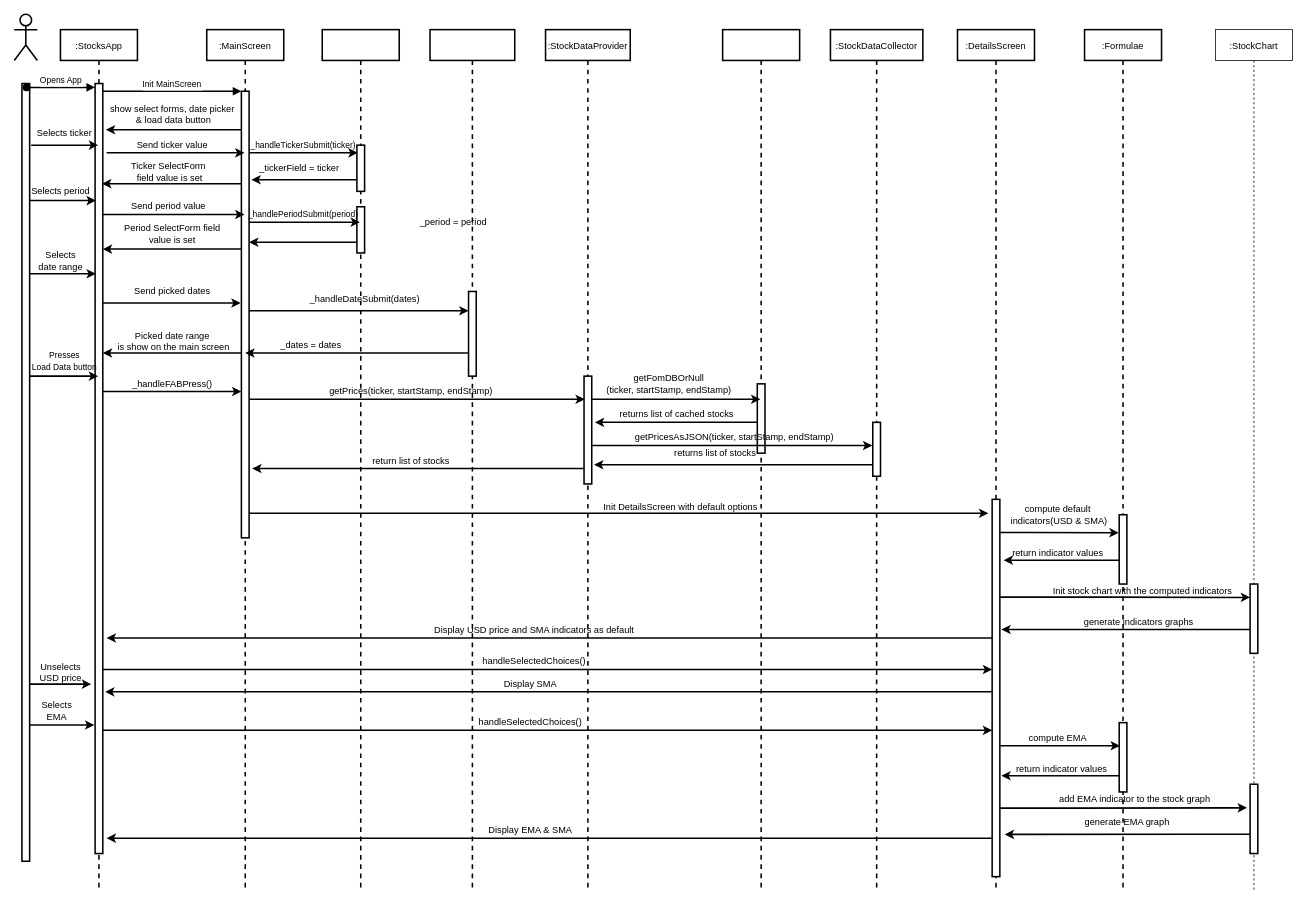
Some shapes in this 1306 by 906 pixel diagram are drawn without their labels. Each missing label, with the box of its shape:
:DateRangeSelector: (429, 28, 515, 892)
:DBManager: (721, 28, 800, 892)
:SelectForm: (321, 28, 400, 892)
User: (13, 13, 38, 61)
